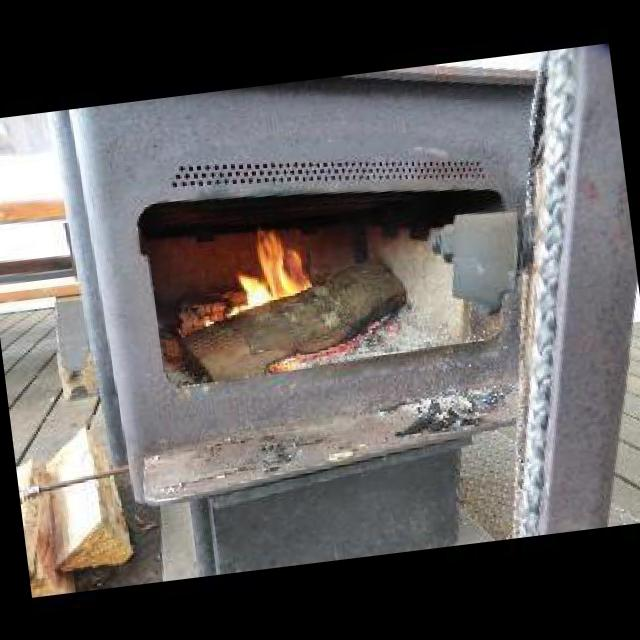Fire: (223, 228, 314, 312)
